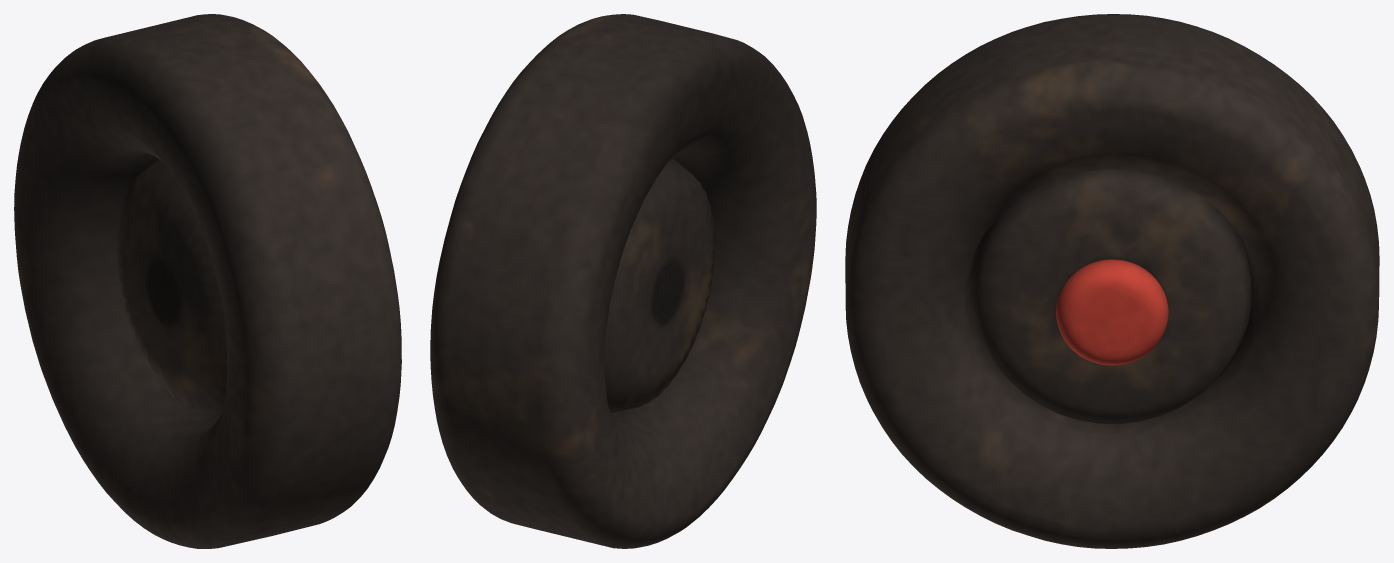
The picture shows the model from 3 angles, left to right: view 1: azimuth 30°, elevation 25°; view 2: azimuth 150°, elevation 25°; view 3: azimuth 270°, elevation 25°; orthographic projection. The views are drawn at different scales.
Visible parts, largest first — view 1: wheel_RL; view 2: wheel_RL; view 3: wheel_RL.
Part boxes in pixels (x1=…): wheel_RL: x1=14, y1=14, x2=401, y2=548; wheel_RL: x1=430, y1=14, x2=816, y2=548; wheel_RL: x1=845, y1=14, x2=1379, y2=548.
Bounding box in the file's own units: 0.0831 × 0.2395 × 0.2394.
Materials: 1 (1 with a texture image).
